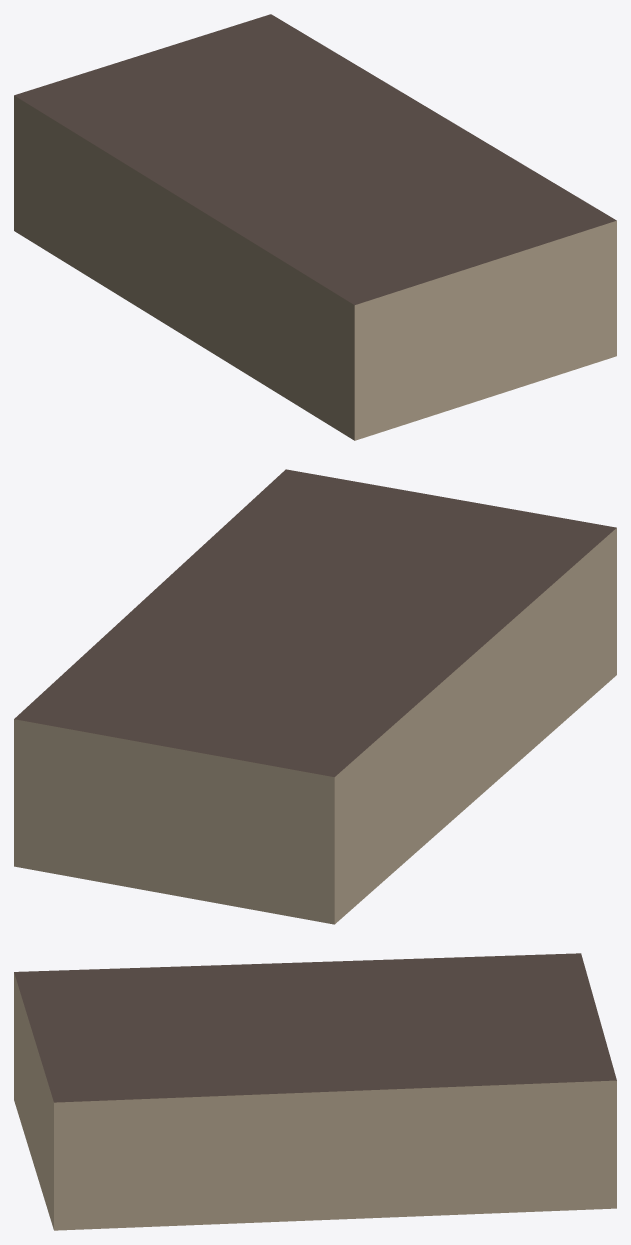
3 renders of one model, top to bottom at view 1: azimuth 30°, elevation 25°; view 2: azimuth 150°, elevation 25°; view 3: azimuth 270°, elevation 25°, orthographic. The views are drawn at different scales.
Parts seen in each view (by area): view 1: HP-w300651974; view 2: HP-w300651974; view 3: HP-w300651974.
Part boxes in pixels (<box>): HP-w300651974: <box>14,14,616,440</box>; HP-w300651974: <box>14,469,616,924</box>; HP-w300651974: <box>14,953,616,1230</box>.
Size of the model in its own units: 22.5 by 9 by 38.41.
